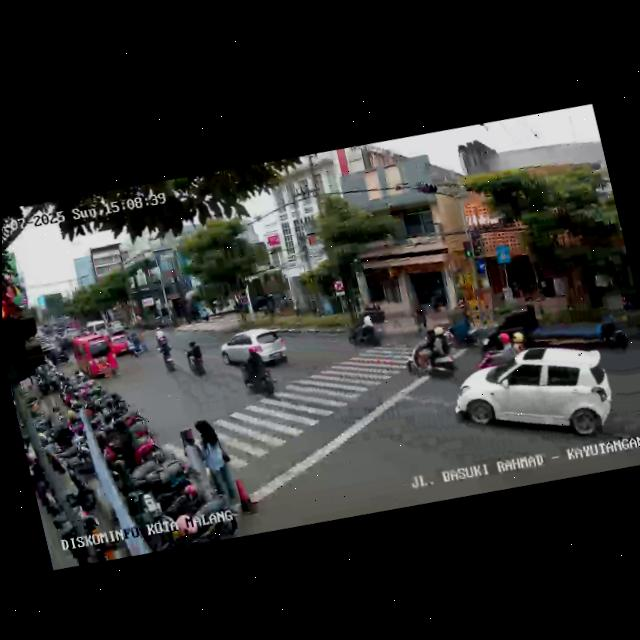car: (445, 327, 623, 470), (216, 319, 290, 377), (68, 328, 120, 386)
motorcycle: (406, 317, 463, 387), (467, 316, 527, 367), (235, 344, 279, 403), (592, 301, 638, 357), (341, 304, 388, 352), (181, 336, 211, 382), (156, 334, 179, 374), (124, 331, 142, 361)
